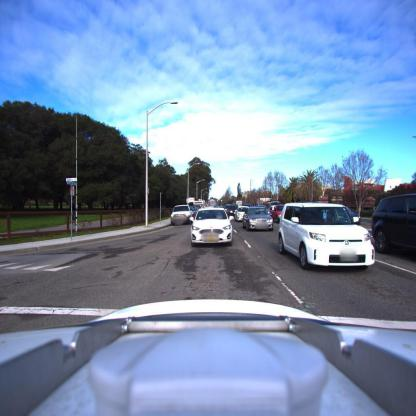car: (1, 293, 399, 416), (277, 202, 377, 271), (372, 194, 416, 258), (190, 208, 232, 245), (242, 209, 274, 232), (170, 206, 192, 226), (268, 202, 284, 220), (235, 209, 248, 222)
sign: (65, 178, 78, 196)
